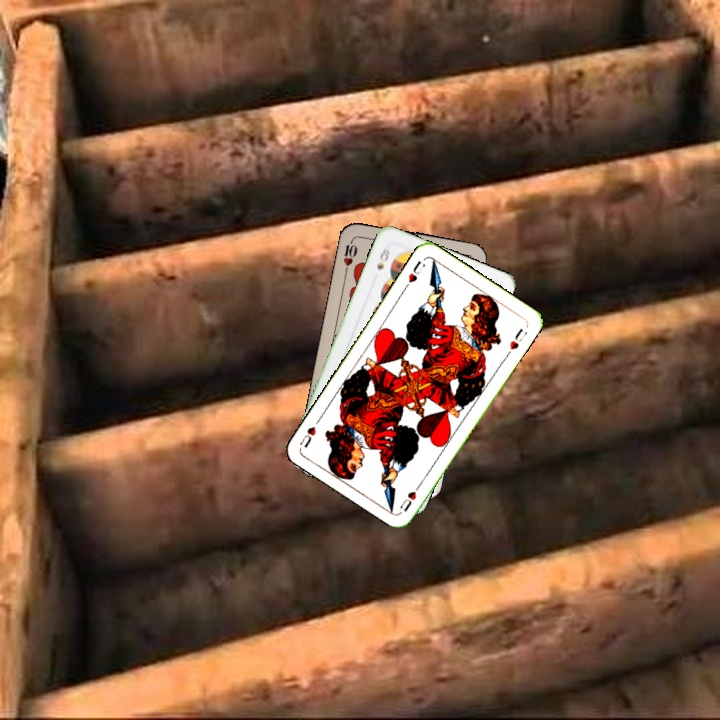H10: (339, 235, 360, 275)
HU: (396, 478, 424, 514), (401, 257, 424, 291)
S8: (373, 240, 392, 272)
